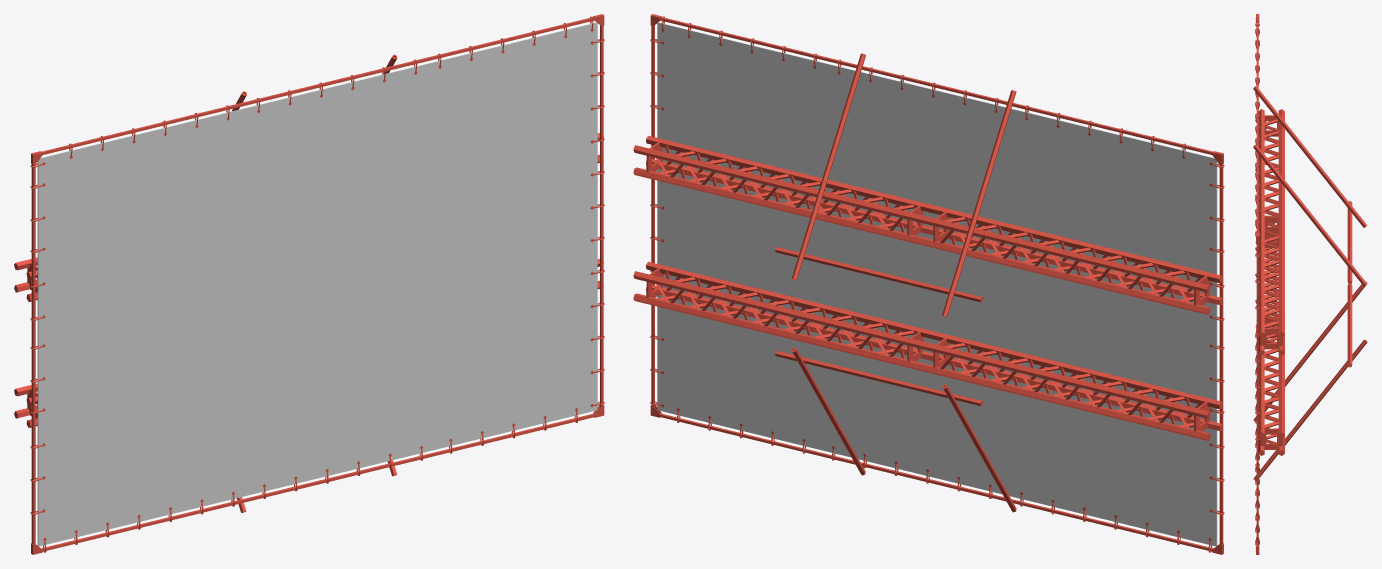
Rendered from SM_Ligh_Diffusion_Frame_Telehandler.fbx.
3 views of the same model, side by side, from view 1: azimuth 30°, elevation 25°; view 2: azimuth 150°, elevation 25°; view 3: azimuth 270°, elevation 25° (orthographic). The views are drawn at different scales.
Visible parts, largest first — view 1: SM_Ligh_Diffusion_Frame_Telehandler; view 2: SM_Ligh_Diffusion_Frame_Telehandler; view 3: SM_Ligh_Diffusion_Frame_Telehandler.
Boxes of the visible parts, x1,y1,x2,y2 form: SM_Ligh_Diffusion_Frame_Telehandler: (14,14,604,554); SM_Ligh_Diffusion_Frame_Telehandler: (633,14,1224,554); SM_Ligh_Diffusion_Frame_Telehandler: (1253,14,1367,554).
Bounding box in the file's own units: 130 × 600 × 422.
